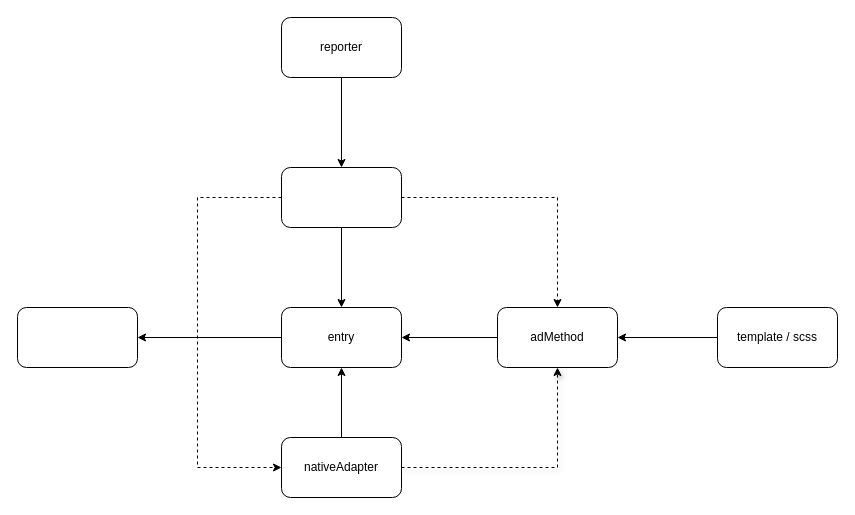
This 855x515 diagram has some shape labels left out. Here are the shapes that lost their labels. From the top down, the centre of each, then its label:
[341,197]: eventListener
[77,337]: dist
